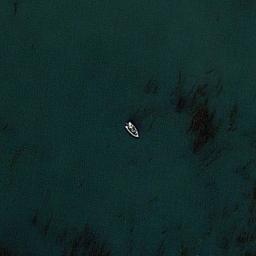boat: (125, 120, 139, 138)
